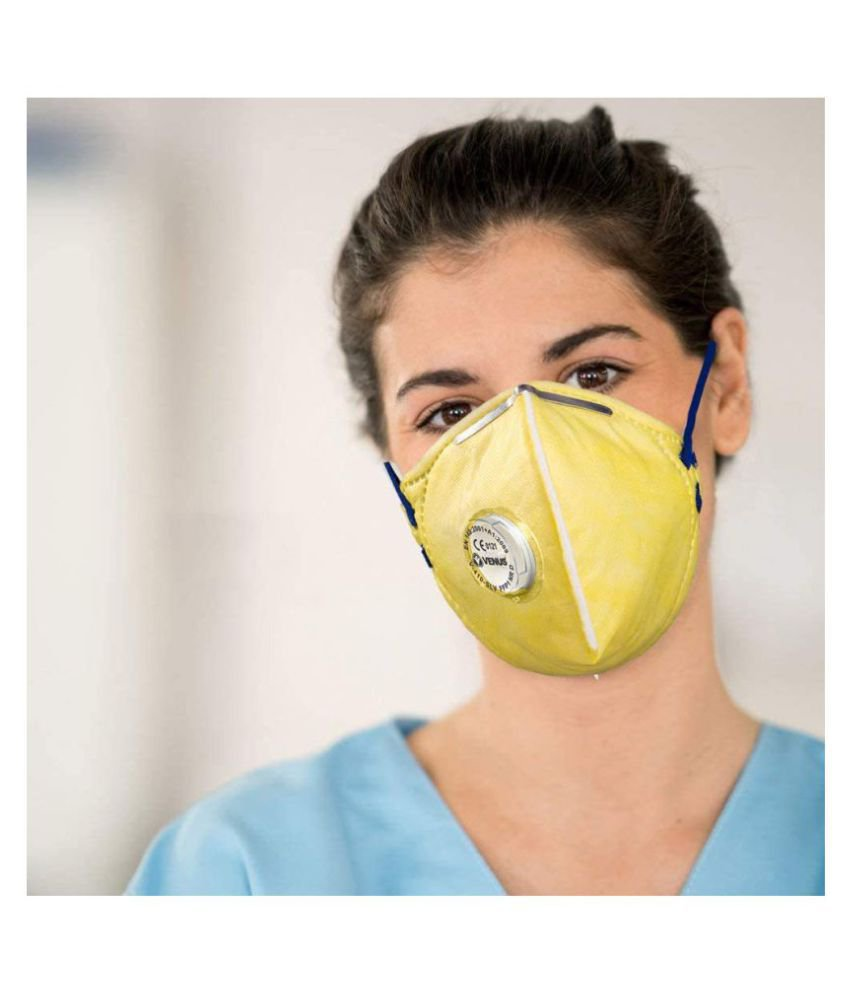mask: (313, 115, 798, 696)
